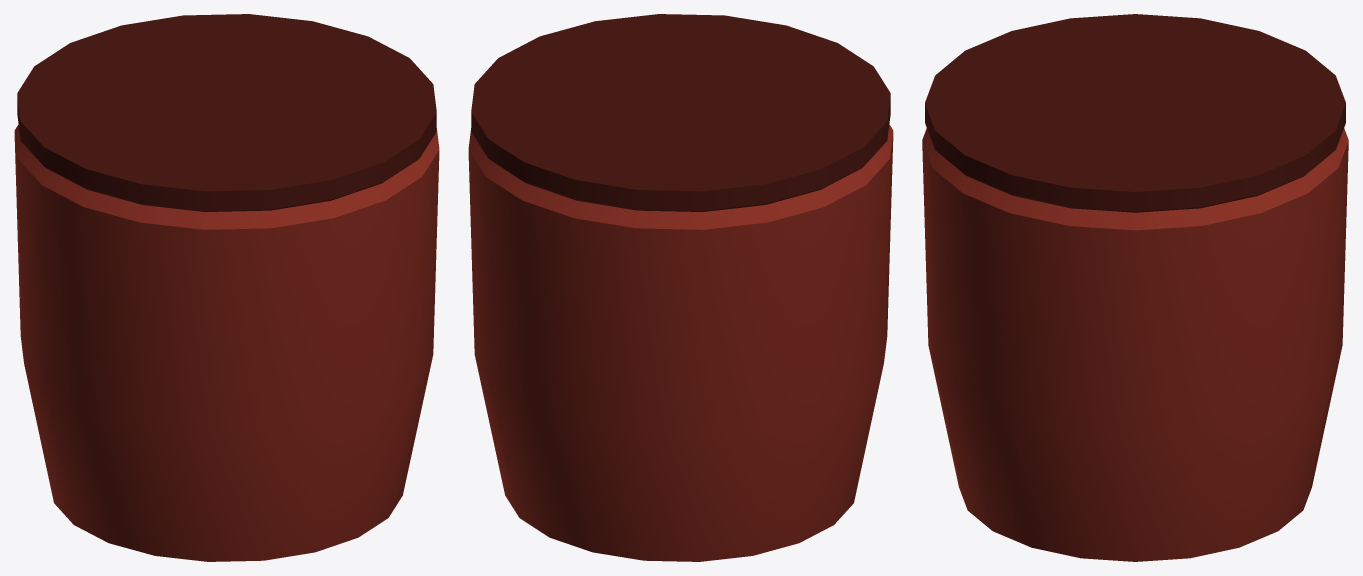
File: Food Jar 1.fbx
The picture shows the model from 3 angles, left to right: view 1: azimuth 30°, elevation 25°; view 2: azimuth 150°, elevation 25°; view 3: azimuth 270°, elevation 25°; orthographic projection.
Parts seen in each view (by area): view 1: pasted__pCylinder124; view 2: pasted__pCylinder124; view 3: pasted__pCylinder124.
Boxes of the visible parts, <box> form: pasted__pCylinder124: <box>14,14,439,561</box>; pasted__pCylinder124: <box>468,14,893,561</box>; pasted__pCylinder124: <box>922,14,1348,561</box>.
Bounding box in the file's own units: 0.6777 × 0.6736 × 0.6777.
